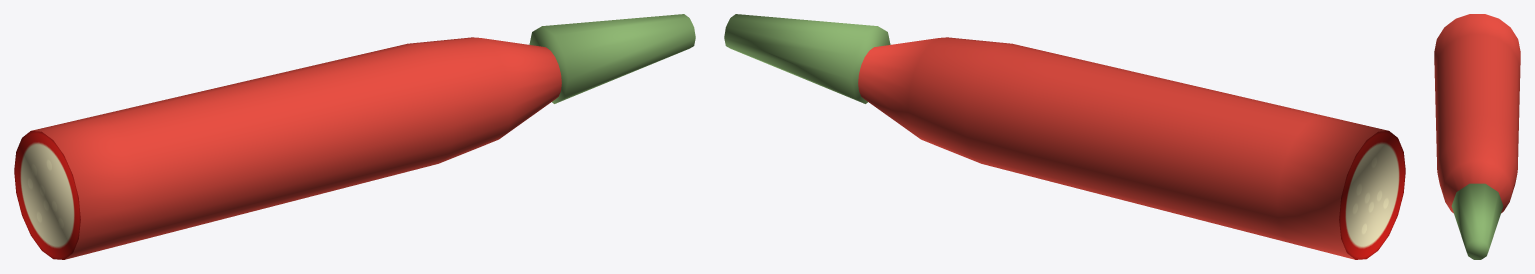
Rendered from Chili_Portion.fbx.
3 views of the same model, side by side, from view 1: azimuth 30°, elevation 25°; view 2: azimuth 150°, elevation 25°; view 3: azimuth 270°, elevation 25° (orthographic). The views are drawn at different scales.
Parts seen in each view (by area): view 1: Chili_Portion; view 2: Chili_Portion; view 3: Chili_Portion.
Boxes of the visible parts, x1,y1,x2,y2 form: Chili_Portion: (14,14,695,259); Chili_Portion: (724,14,1405,259); Chili_Portion: (1434,14,1520,259).
Size of the model in its own units: 0.083 by 0.0148 by 0.015.
Materials: 3 (1 with a texture image).
